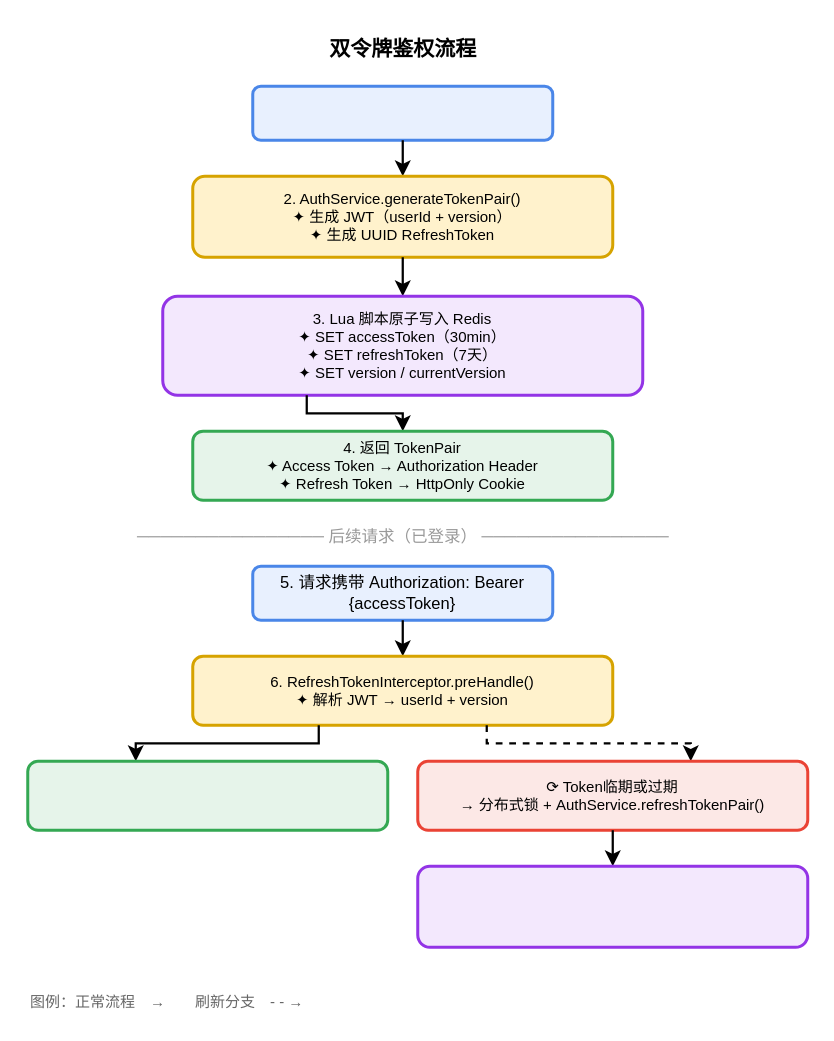
This 834x1041 diagram has some shape labels left out. Each missing label, with the box of its shape:
1. 用户登录请求: (250, 84, 554, 141)
8. 刷新结果 ✦ 临期：直接写新JWT（版本号不变） ✦ 过期：Lua脚本，生成新版本号: (416, 864, 808, 948)
✓ Token有效（Caffeine+Redis校验通过） → 放行到 Controller: (26, 759, 388, 831)
